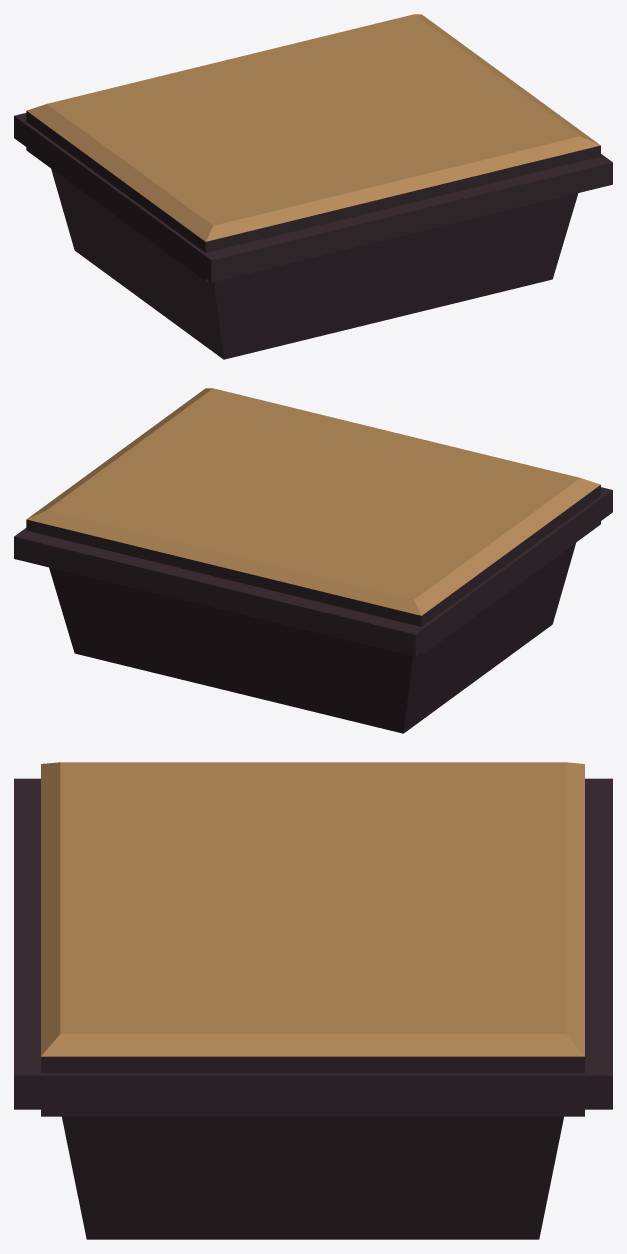
File: LCmesinha.fbx
The picture shows the model from 3 angles, top to bottom: view 1: azimuth 30°, elevation 25°; view 2: azimuth 150°, elevation 25°; view 3: azimuth 270°, elevation 25°; orthographic projection. The views are drawn at different scales.
Parts seen in each view (by area): view 1: Mesa 2.002; view 2: Mesa 2.002; view 3: Mesa 2.002.
Boxes of the visible parts, x1=… form: Mesa 2.002: x1=14, y1=14, x2=612, y2=359; Mesa 2.002: x1=14, y1=388, x2=612, y2=733; Mesa 2.002: x1=14, y1=762, x2=612, y2=1239.
Bounding box in the file's own units: 517 × 178 × 441.
